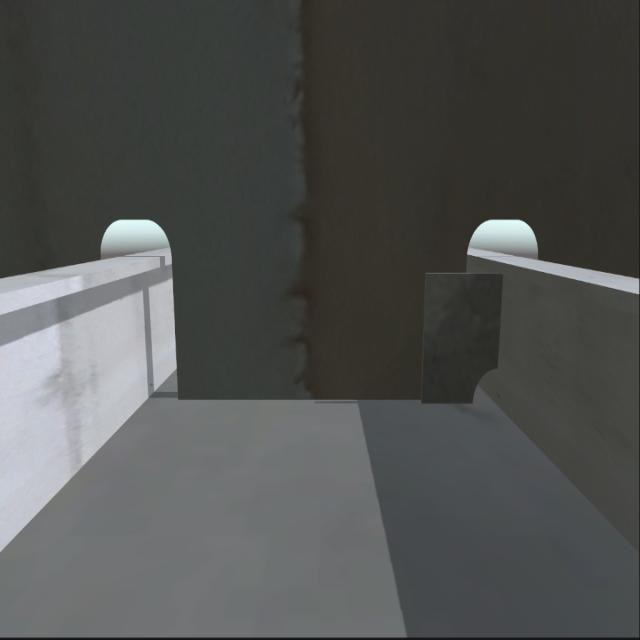fillet_hole: (471, 361, 506, 414)
fillet_yong_jeop_jang: (178, 391, 472, 407)
longi_yong_jeop_jang: (494, 273, 507, 372)
plate_CP01: (421, 274, 502, 406)
